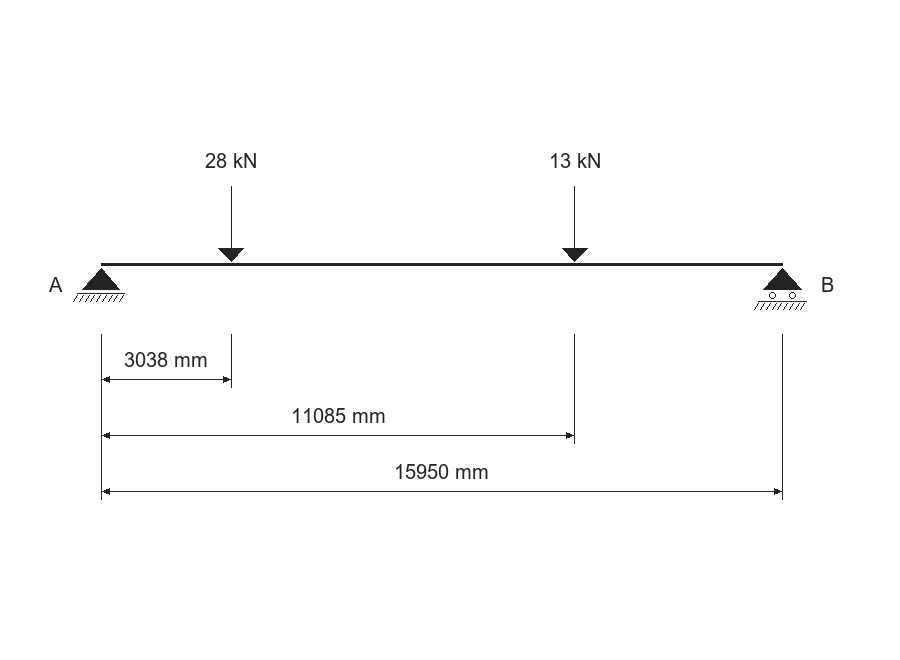pin_support: (73, 268, 125, 302)
point_load: (218, 186, 244, 262), (562, 186, 588, 262)
roller_support: (754, 268, 807, 310)
